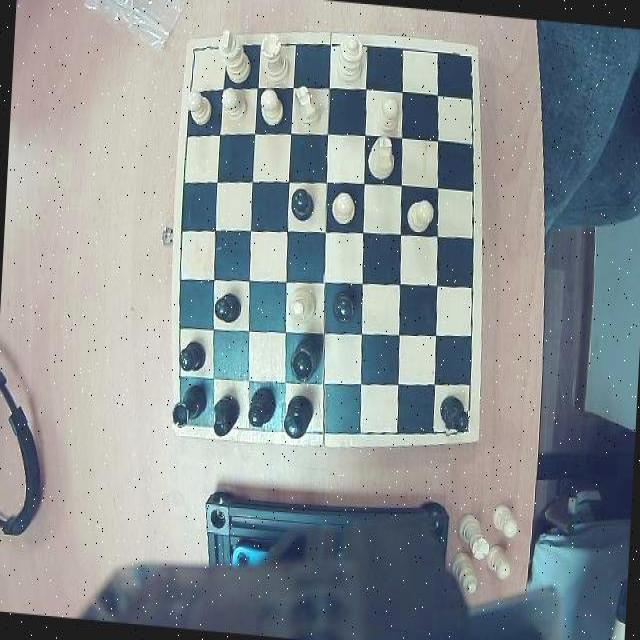chess-table-corners: (444, 409, 478, 442), (173, 403, 204, 433), (451, 47, 480, 76), (186, 38, 211, 66)
